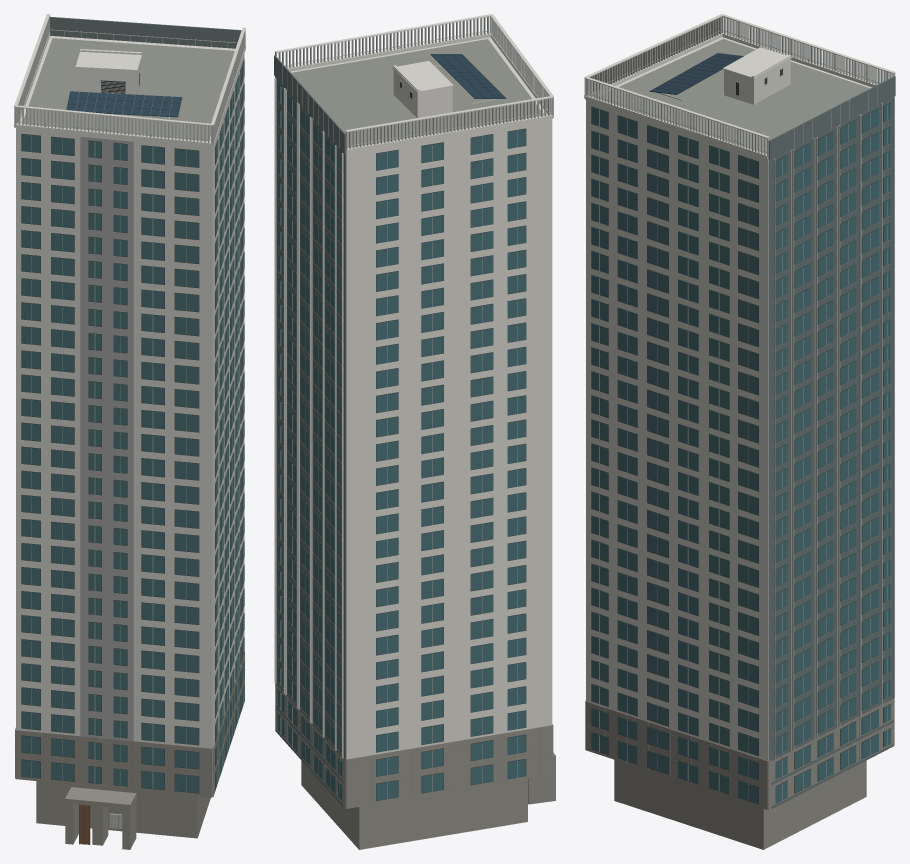
File: bespoke-maple-xi-208.glb
3 renders of one model, left to right at view 1: azimuth 30°, elevation 25°; view 2: azimuth 150°, elevation 25°; view 3: azimuth 270°, elevation 25°, orthographic.
Parts seen in each view (by area): view 1: 208_e0_window_glass, 208_wing_0_observed_massing, 208_e3_paint_zone_warm, 208_e0_individually_sized_reveals, 208_208_deep_recessed_lobby_mass, 208_wing_0_roof_rail, 208_wing_0_service_roof, 208_e1_paint_zone_graphite, 208_individual_roof_panel_array_0, 208_e0_stone_vertical_joints, 208_208_entry_brown_vertical_slats; view 2: 208_wing_0_observed_massing, 208_e0_window_glass, 208_wing_0_roof_rail, 208_e1_paint_zone_graphite, 208_208_deep_recessed_lobby_mass, 208_wing_0_service_roof, 208_e0_individually_sized_reveals, 208_individual_roof_panel_array_0, 208_e0_stone_vertical_joints; view 3: 208_e0_window_glass, 208_wing_0_observed_massing, 208_e1_paint_zone_graphite, 208_wing_0_roof_rail, 208_208_deep_recessed_lobby_mass, 208_e0_individually_sized_reveals, 208_wing_0_service_roof, 208_individual_roof_panel_array_0, 208_e0_stone_vertical_joints.
Part boxes in pixels (bbox=[...]): 208_e0_window_glass: bbox=[21, 59, 244, 793]; 208_wing_0_observed_massing: bbox=[14, 14, 245, 796]; 208_e3_paint_zone_warm: bbox=[80, 71, 140, 741]; 208_e0_individually_sized_reveals: bbox=[21, 59, 244, 793]; 208_208_deep_recessed_lobby_mass: bbox=[15, 652, 244, 849]; 208_wing_0_roof_rail: bbox=[14, 16, 245, 828]; 208_wing_0_service_roof: bbox=[24, 38, 234, 141]; 208_e1_paint_zone_graphite: bbox=[50, 16, 244, 635]; 208_individual_roof_panel_array_0: bbox=[66, 91, 182, 117]; 208_e0_stone_vertical_joints: bbox=[16, 669, 244, 829]; 208_208_entry_brown_vertical_slats: bbox=[79, 804, 90, 844]; 208_wing_0_observed_massing: bbox=[275, 14, 553, 808]; 208_e0_window_glass: bbox=[278, 83, 525, 800]; 208_wing_0_roof_rail: bbox=[274, 16, 553, 798]; 208_e1_paint_zone_graphite: bbox=[274, 55, 345, 807]; 208_208_deep_recessed_lobby_mass: bbox=[275, 683, 555, 849]; 208_wing_0_service_roof: bbox=[291, 39, 543, 147]; 208_e0_individually_sized_reveals: bbox=[278, 82, 526, 801]; 208_individual_roof_panel_array_0: bbox=[430, 54, 506, 98]; 208_e0_stone_vertical_joints: bbox=[275, 686, 552, 804]; 208_e0_window_glass: bbox=[591, 103, 890, 803]; 208_wing_0_observed_massing: bbox=[584, 14, 895, 809]; 208_e1_paint_zone_graphite: bbox=[768, 76, 895, 809]; 208_wing_0_roof_rail: bbox=[584, 16, 895, 800]; 208_208_deep_recessed_lobby_mass: bbox=[585, 698, 894, 849]; 208_e0_individually_sized_reveals: bbox=[591, 69, 890, 804]; 208_wing_0_service_roof: bbox=[596, 39, 869, 153]; 208_individual_roof_panel_array_0: bbox=[649, 53, 743, 94]; 208_e0_stone_vertical_joints: bbox=[585, 701, 894, 803].
Size of the model in its own units: 34.19 by 94.1 by 36.28.
